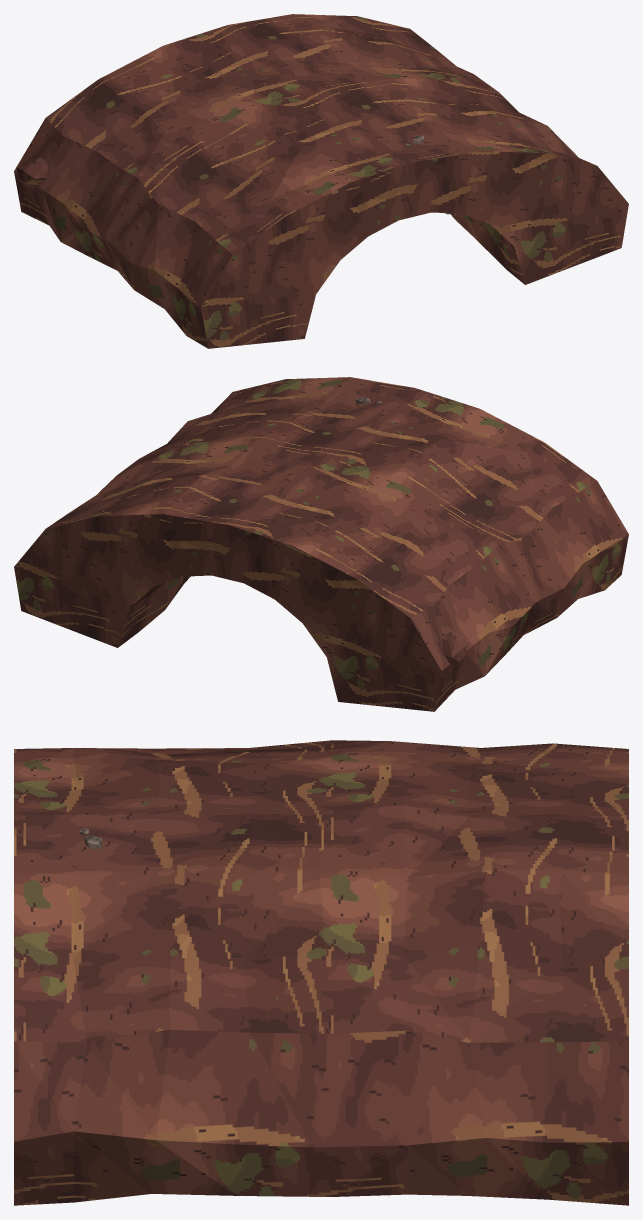
File: SM_AN03_CeilingVault_B.fbx
3 views of the same model, one above another, from view 1: azimuth 30°, elevation 25°; view 2: azimuth 150°, elevation 25°; view 3: azimuth 270°, elevation 25° (orthographic). The views are drawn at different scales.
Visible parts, largest first — view 1: AN03b_Earth; view 2: AN03b_Earth; view 3: AN03b_Earth.
Part boxes in pixels (left/top/right/bottom): AN03b_Earth: left=14, top=14, right=628, bottom=348; AN03b_Earth: left=14, top=377, right=628, bottom=711; AN03b_Earth: left=14, top=740, right=628, bottom=1205.
Size of the model in its own units: 5.4 by 1.97 by 4.
